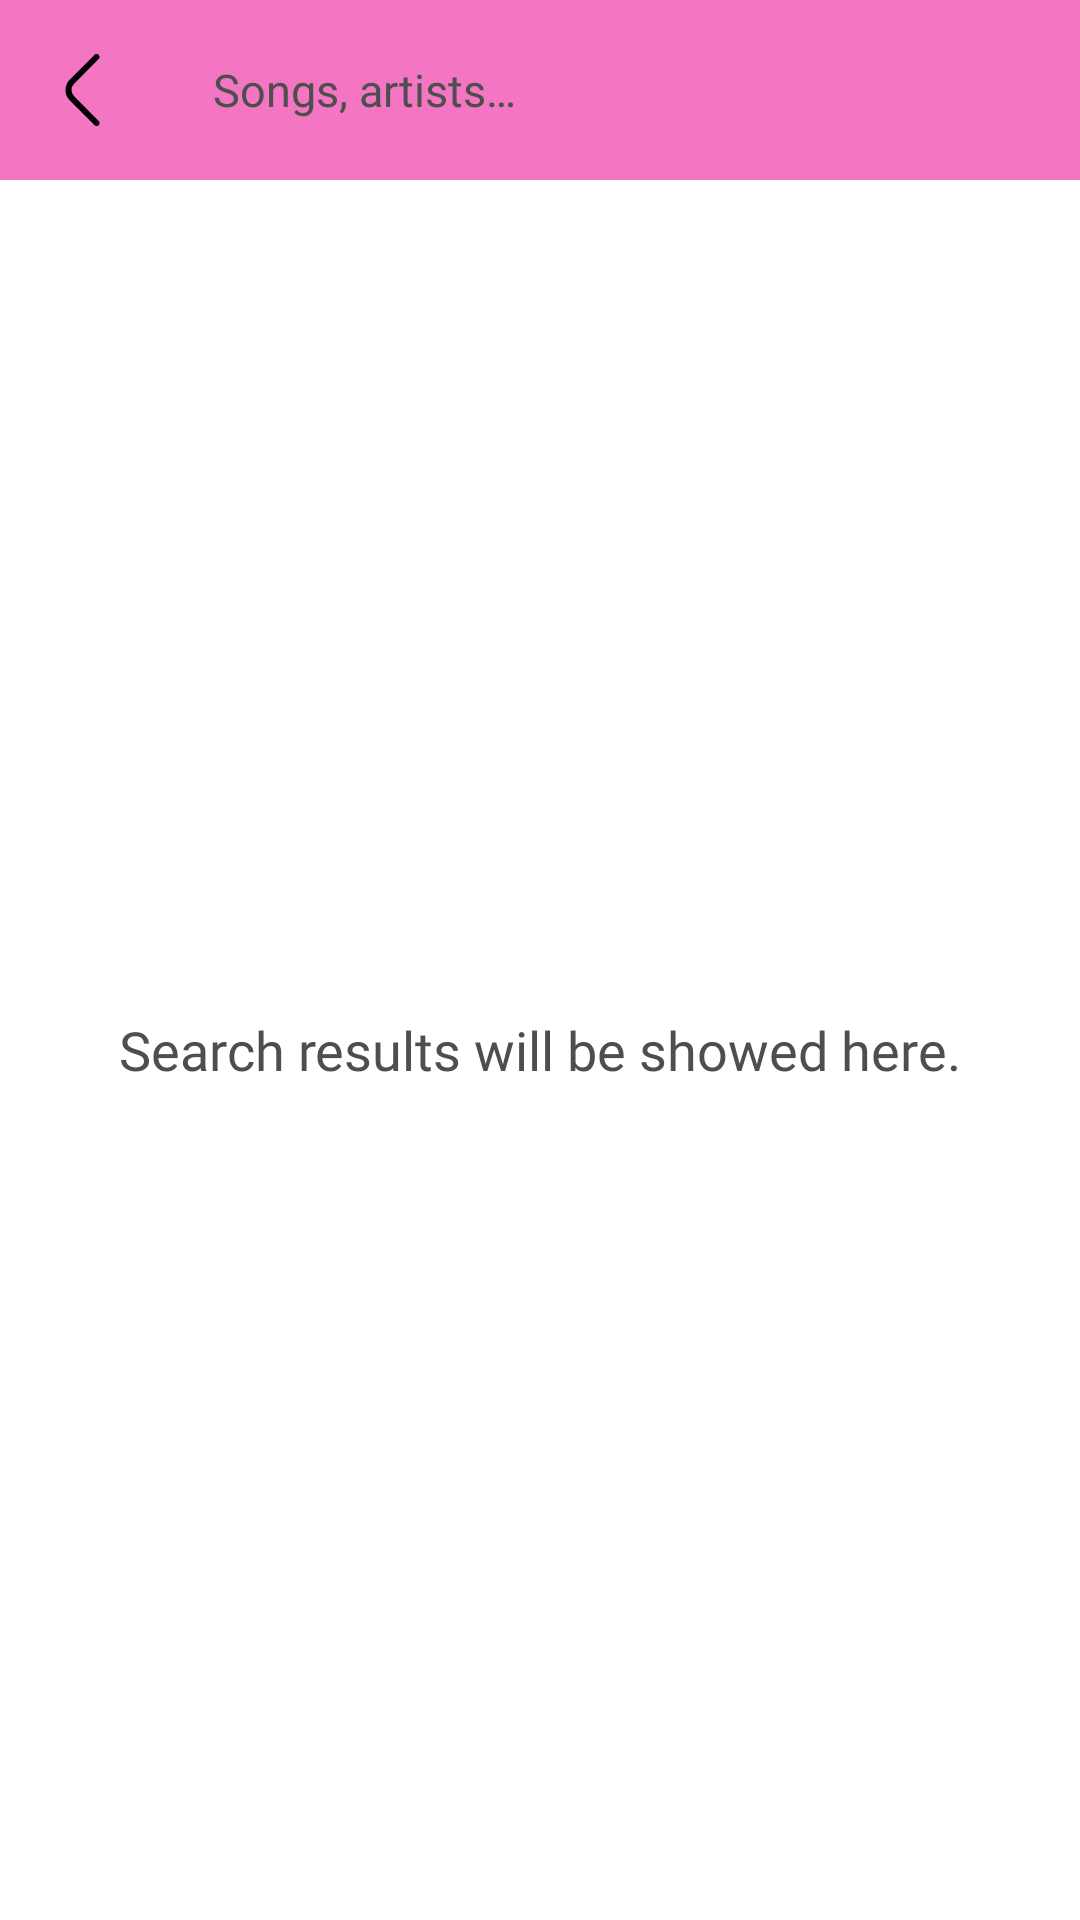

Locate icon controls on the screen. Image size 1080×1920, boxes as (x1, y1, x2, y2).
angle left: (65, 54, 100, 126)
